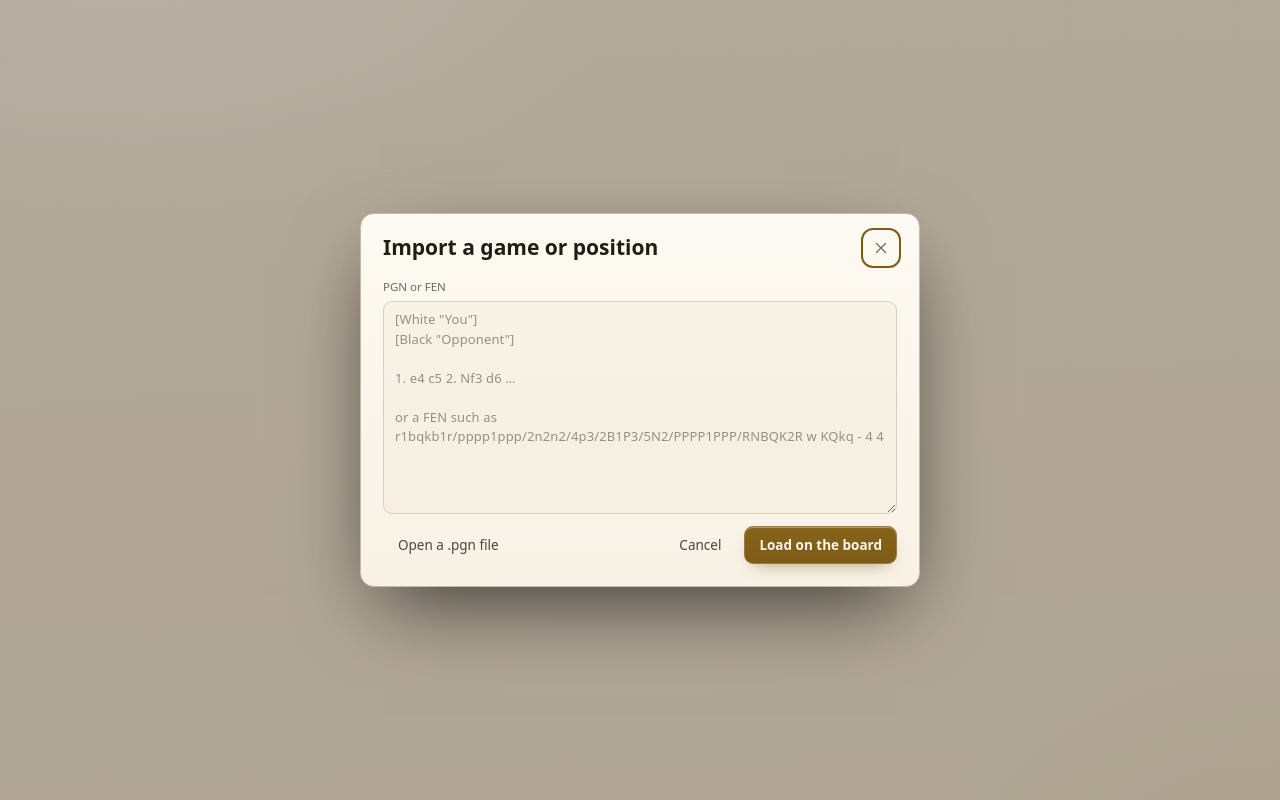
ImportDialog › explains a broken FEN
The image size is (1280, 800).
Type "4k3/8/8/8/8/8/4P3/4K3 x - - 0 1" into the text box labelled "PGN or FEN".
click(640, 408); type("4k3/8/8/8/8/8/4P3/4K3 x - - 0 1")  # box [383,301,897,514]
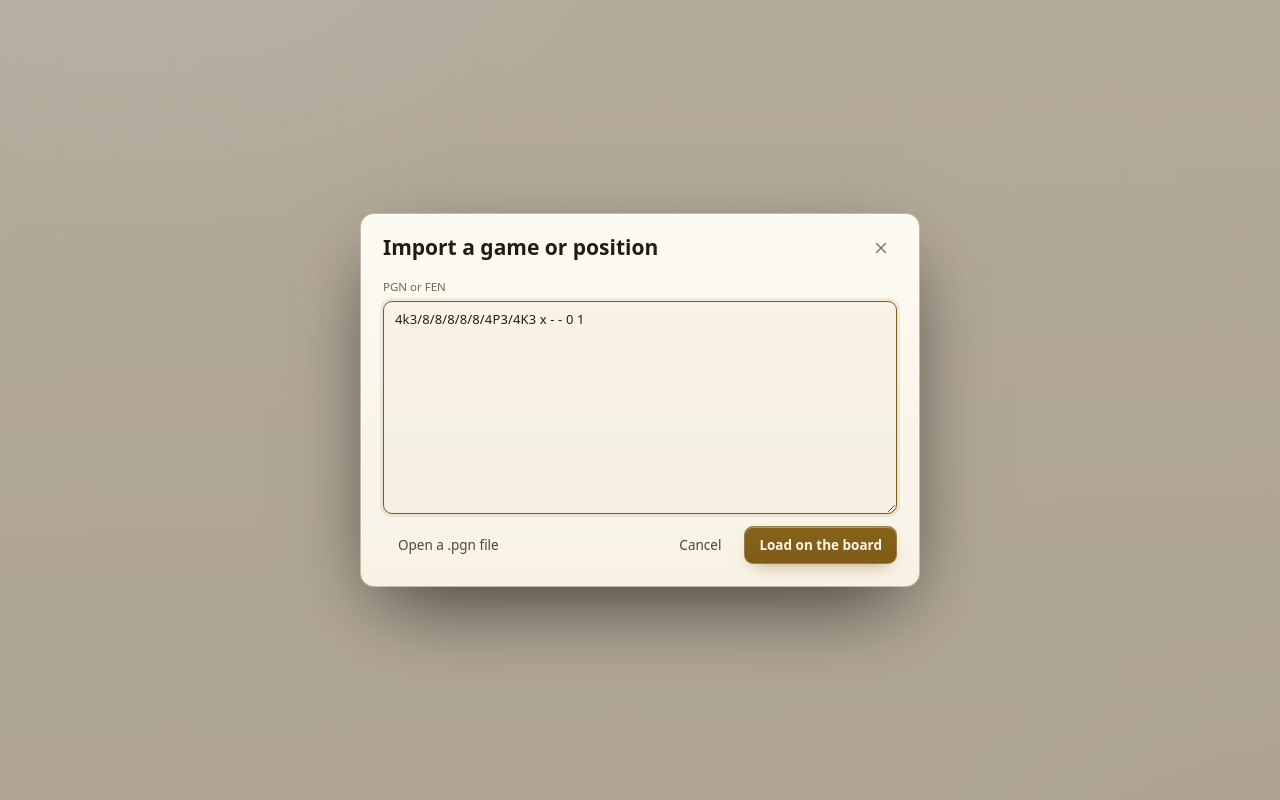
Click the button "Load on the board".
click(821, 545)  # box [744,526,897,564]
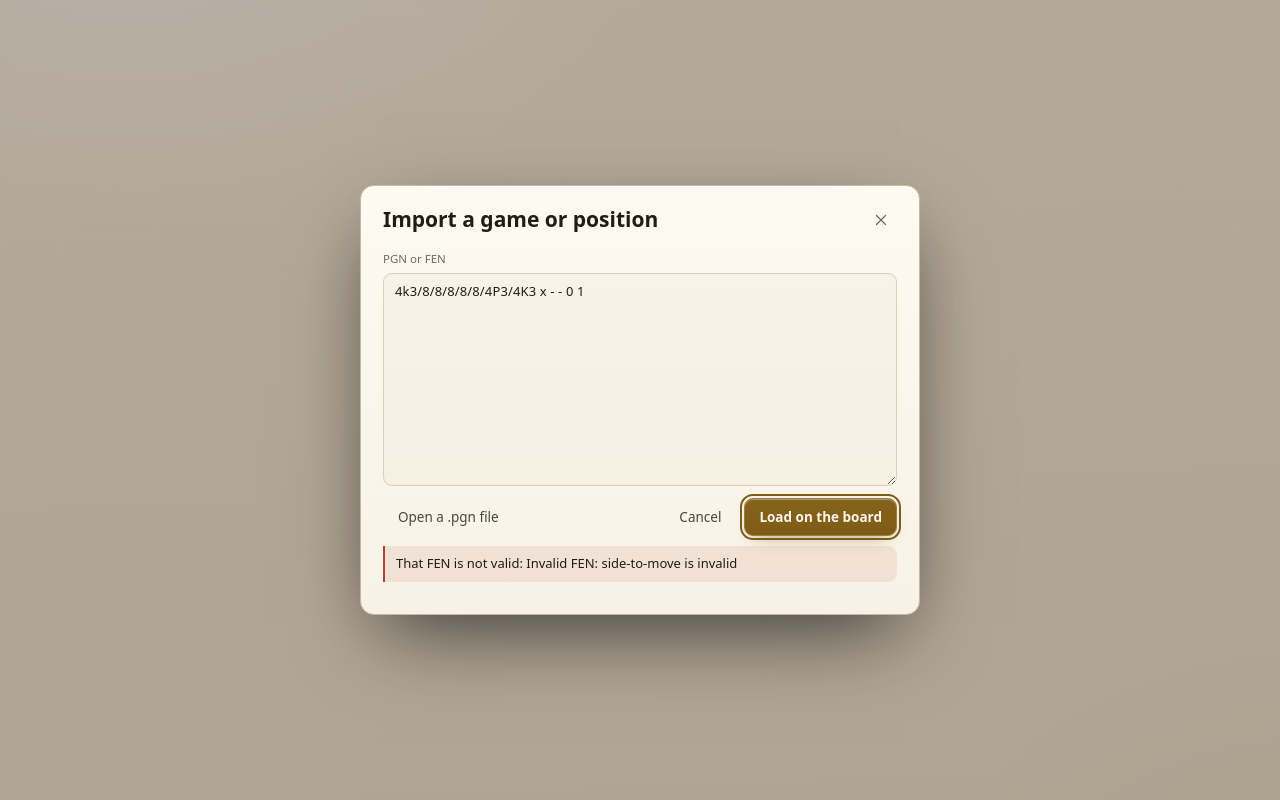
Expected: the message shows "That FEN is not valid", [396,554,737,572]
